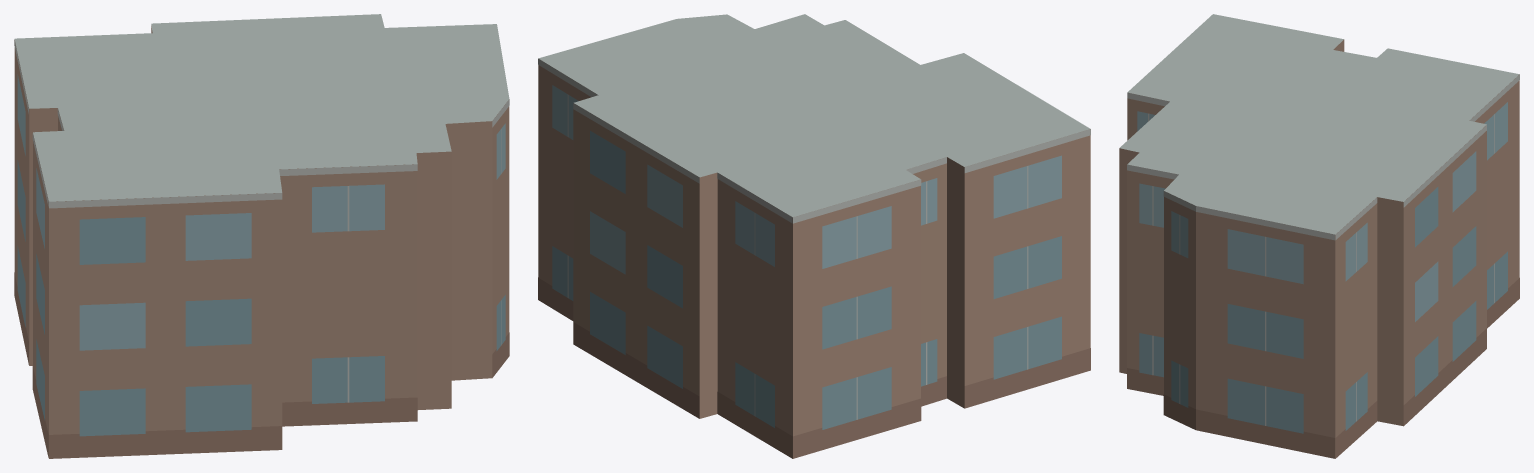
The model's file is survey-upis-32534172.glb.
3 renders of one model, left to right at view 1: azimuth 30°, elevation 25°; view 2: azimuth 150°, elevation 25°; view 3: azimuth 270°, elevation 25°, orthographic. The views are drawn at different scales.
Parts seen in each view (by area): view 1: survey-upis-32534172.tmp; view 2: survey-upis-32534172.tmp; view 3: survey-upis-32534172.tmp.
Boxes of the visible parts, left/top/right/bottom form: survey-upis-32534172.tmp: left=14, top=14, right=509, bottom=458; survey-upis-32534172.tmp: left=538, top=14, right=1090, bottom=458; survey-upis-32534172.tmp: left=1119, top=14, right=1519, bottom=458.
Size of the model in its own units: 19.62 by 9.3 by 15.06.
